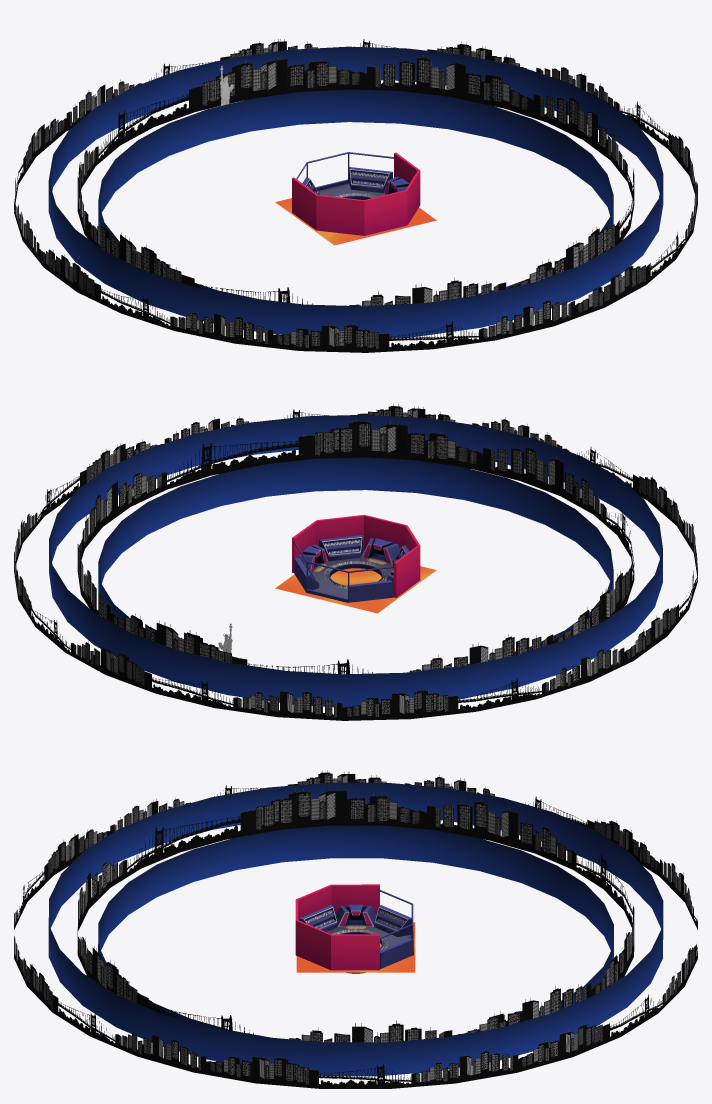
File: newyork_stage.fbx
3 views of the same model, one above another, from view 1: azimuth 30°, elevation 25°; view 2: azimuth 150°, elevation 25°; view 3: azimuth 270°, elevation 25° (orthographic).
Visible parts, largest first — view 1: Cylinder.052, Cylinder.043, Cylinder.044, Cylinder.054, Cylinder.041, Plane.010, Cylinder.042, Cylinder.045; view 2: Cylinder.052, Cylinder.043, Cylinder.044, Cylinder.054, Cylinder.041, Plane.010, Cylinder.050, Cylinder.045, Cube.041, Cylinder.042, Cube.040; view 3: Cylinder.052, Cylinder.043, Cylinder.044, Cylinder.054, Cylinder.041, Cylinder.042, Plane.010, Cube.044, Cylinder.050, Cylinder.045.
Part boxes in pixels (x1=…): Cylinder.052: x1=48, y1=46, x2=663, y2=337; Cylinder.043: x1=77, y1=54, x2=634, y2=306; Cylinder.044: x1=14, y1=39, x2=697, y2=352; Cylinder.054: x1=98, y1=89, x2=613, y2=337; Cylinder.041: x1=292, y1=152, x2=420, y2=235; Plane.010: x1=275, y1=198, x2=436, y2=245; Cylinder.042: x1=349, y1=167, x2=392, y2=193; Cylinder.045: x1=316, y1=179, x2=385, y2=199; Cylinder.052: x1=49, y1=414, x2=662, y2=706; Cylinder.043: x1=77, y1=418, x2=634, y2=674; Cylinder.044: x1=14, y1=403, x2=697, y2=720; Cylinder.054: x1=98, y1=457, x2=613, y2=707; Cylinder.041: x1=292, y1=514, x2=420, y2=597; Plane.010: x1=275, y1=566, x2=436, y2=613; Cylinder.050: x1=319, y1=535, x2=392, y2=602; Cylinder.045: x1=306, y1=550, x2=393, y2=602; Cube.041: x1=362, y1=538, x2=399, y2=564; Cylinder.042: x1=294, y1=545, x2=409, y2=591; Cube.040: x1=298, y1=544, x2=327, y2=572; Cylinder.052: x1=48, y1=782, x2=663, y2=1074; Cylinder.043: x1=77, y1=788, x2=634, y2=1042; Cylinder.044: x1=14, y1=770, x2=697, y2=1088; Cylinder.054: x1=98, y1=825, x2=613, y2=1076; Cylinder.041: x1=295, y1=884, x2=379, y2=970; Cylinder.042: x1=299, y1=905, x2=413, y2=968; Plane.010: x1=296, y1=922, x2=415, y2=972; Cube.044: x1=335, y1=904, x2=376, y2=928; Cylinder.050: x1=374, y1=905, x2=413, y2=936; Cylinder.045: x1=327, y1=926, x2=413, y2=973.
Size of what is drawn, in the model's own units: 135754 by 19104 by 135754.
